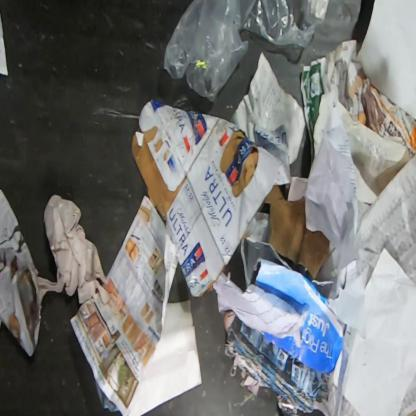cardboard: (131, 99, 292, 299), (222, 257, 348, 415), (264, 185, 329, 281)
soft_plastic: (163, 0, 331, 102)
